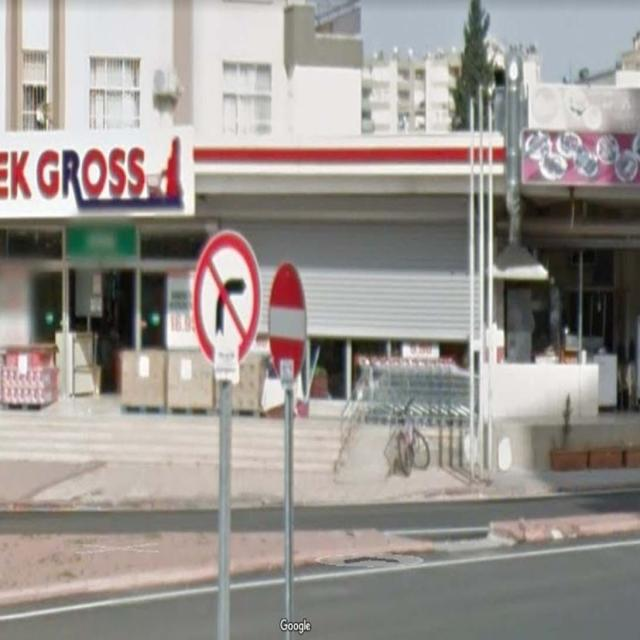girisyok: (268, 263, 307, 382)
sagadonulmez: (193, 230, 261, 364)
